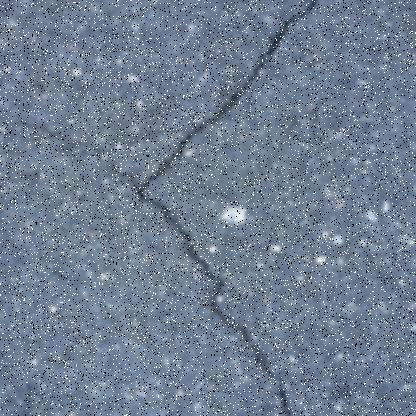Cracks: (134, 0, 323, 415)
